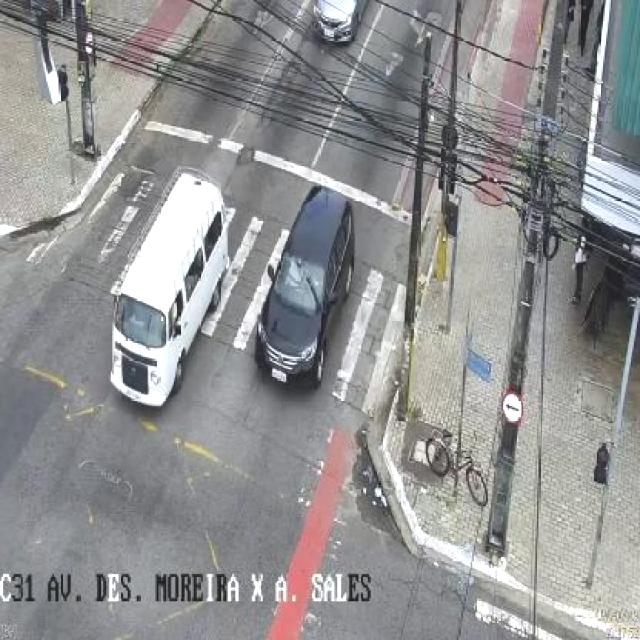Bus: (107, 169, 233, 410)
Car: (251, 181, 360, 398)
Cycle: (422, 426, 490, 510)
